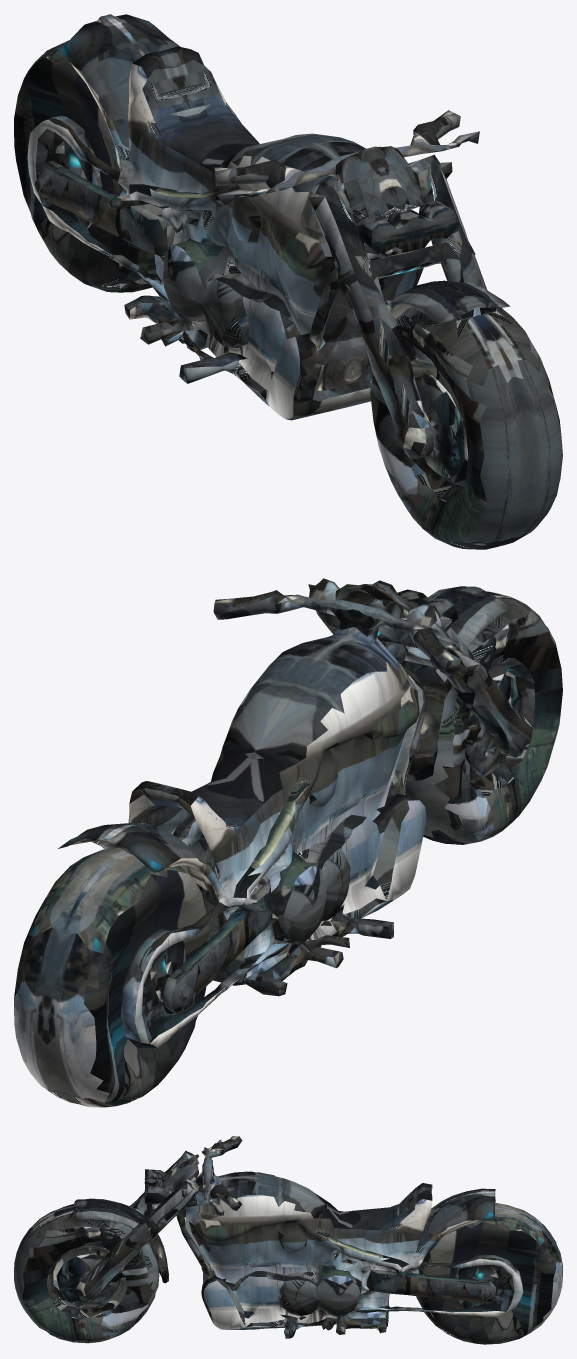
File: motocicleta.dae
3 views of the same model, one above another, from view 1: azimuth 30°, elevation 25°; view 2: azimuth 150°, elevation 25°; view 3: azimuth 270°, elevation 25° (orthographic). The views are drawn at different scales.
Parts seen in each view (by area): view 1: motocicleta; view 2: motocicleta; view 3: motocicleta.
Part boxes in pixels (x1=…): motocicleta: x1=14, y1=14, x2=562, y2=549; motocicleta: x1=14, y1=578, x2=562, y2=1107; motocicleta: x1=14, y1=1136, x2=562, y2=1344.
Bounding box in the file's own units: 2.72 × 8.64 × 3.15.
